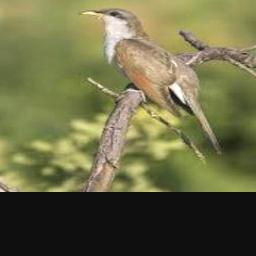Cuckoo: (79, 7, 223, 152)
